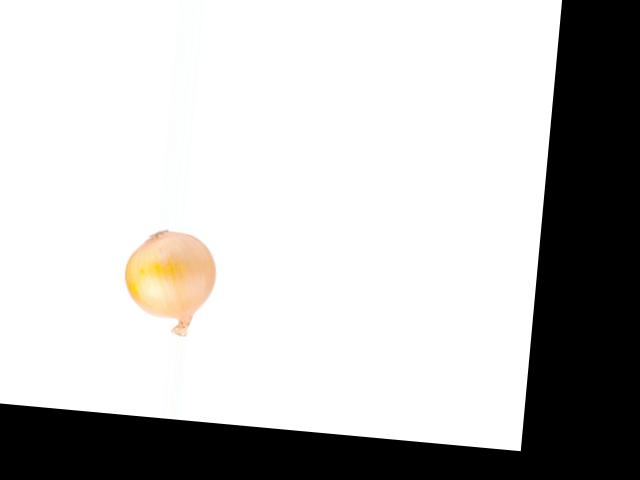onion: (119, 228, 221, 326)
